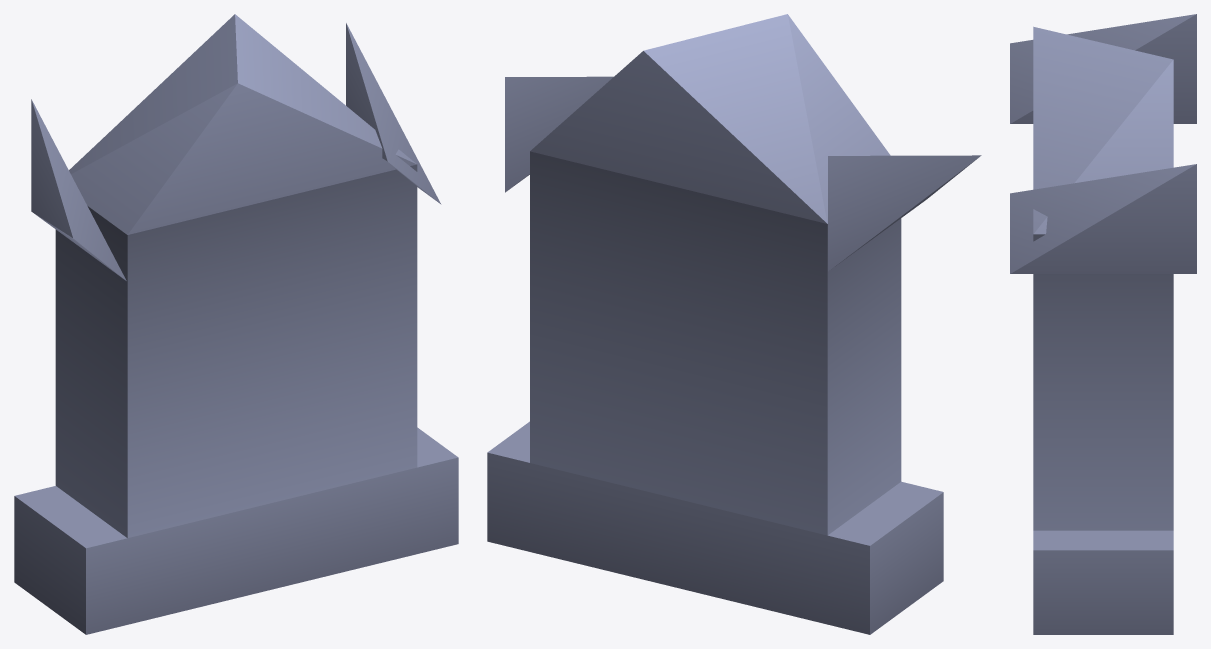
The model's file is K_gravestone-decorative_lod.glb.
The picture shows the model from 3 angles, left to right: view 1: azimuth 30°, elevation 25°; view 2: azimuth 150°, elevation 25°; view 3: azimuth 270°, elevation 25°; orthographic projection. The views are drawn at different scales.
Parts seen in each view (by area): view 1: gravestone-decorative; view 2: gravestone-decorative; view 3: gravestone-decorative.
Boxes of the visible parts, x1,y1,x2,y2 form: gravestone-decorative: (14,14,458,634); gravestone-decorative: (487,14,981,634); gravestone-decorative: (1010,14,1196,634).
Size of the model in its own units: 0.4801 by 0.5942 by 0.2.
